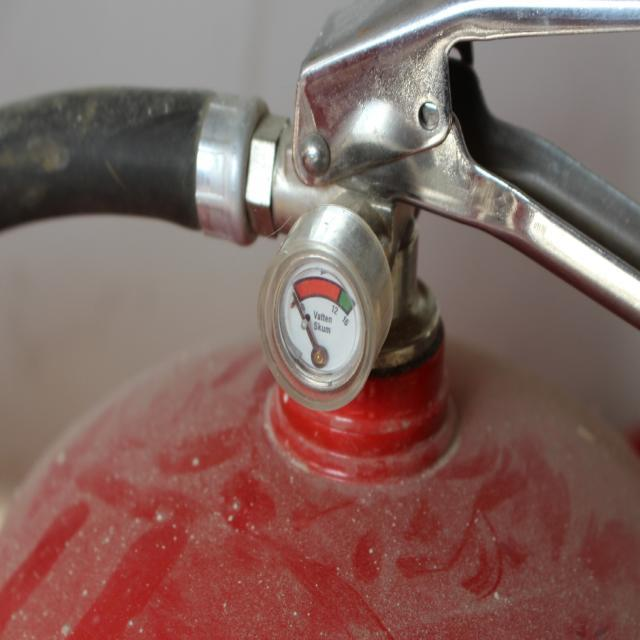pressure gauge: (260, 205, 392, 409)
